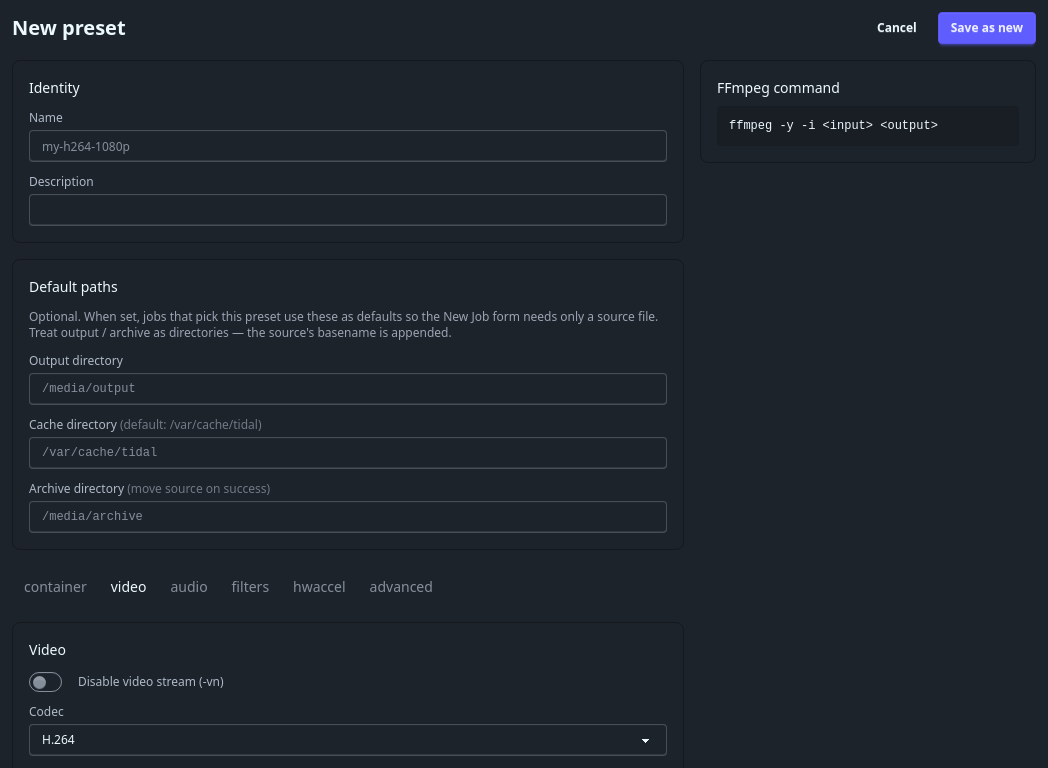
Test: PresetEditorView › Add video filter appends to chain
The width and height of the screenshot is (1048, 768).
Click the tab "filters" at (250, 586), box [220,566,281,606]
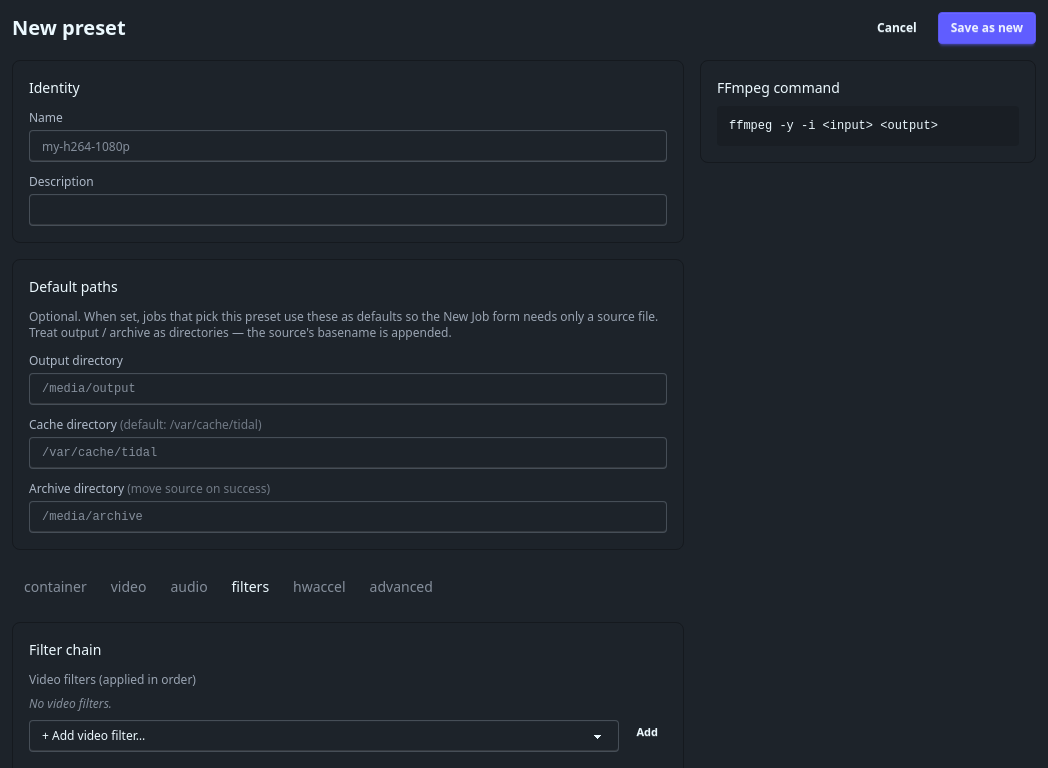
Select "Unsharp" in the dropdown at (324, 736), box [29,720,620,752]
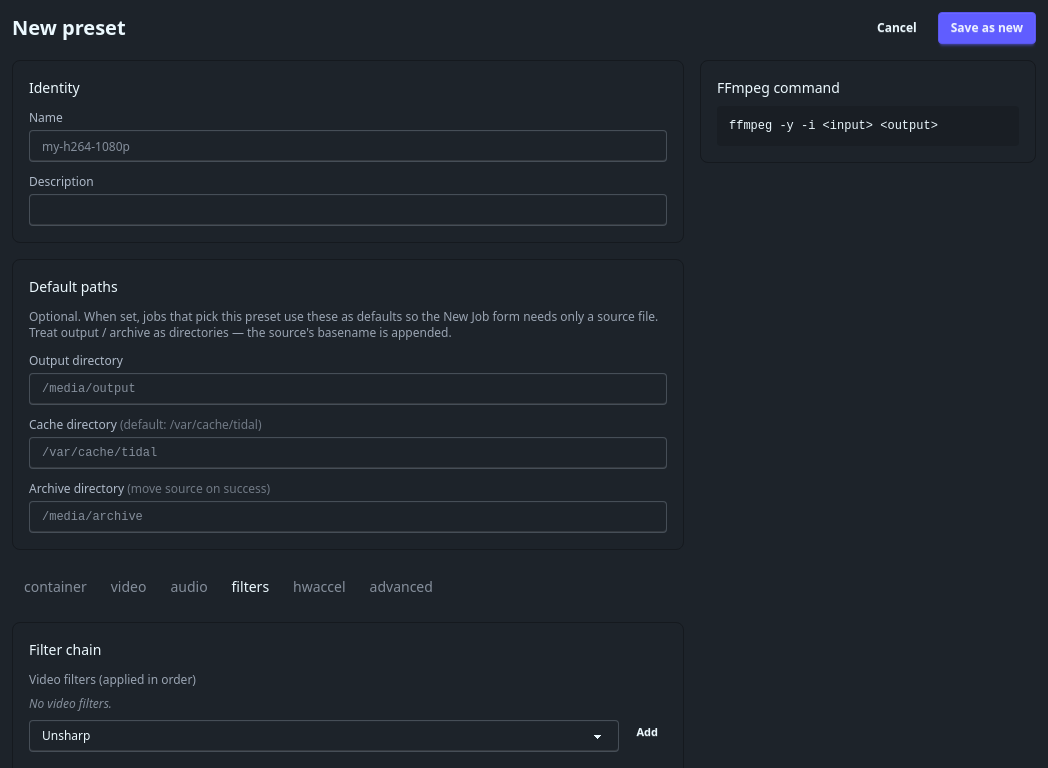
Click the button "Add" at (647, 732), box [628,720,667,744]
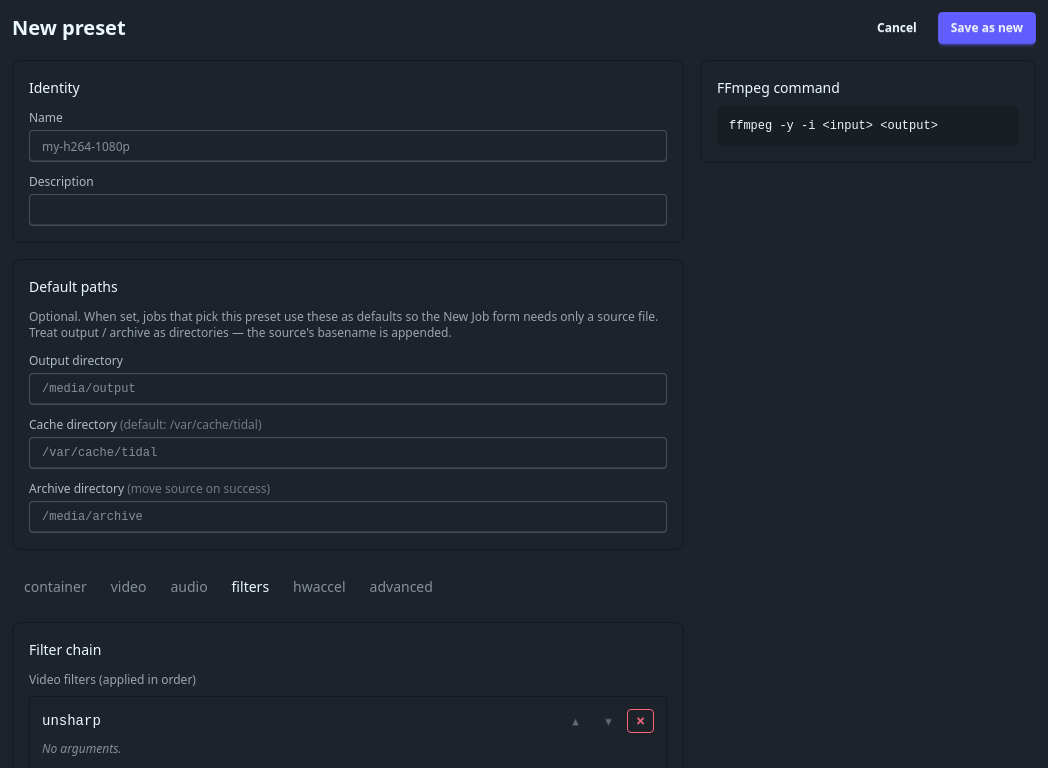
Expected: the text "unsharp" is shown, [42,711,101,731]
